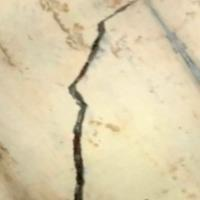crack: (62, 1, 130, 199)
